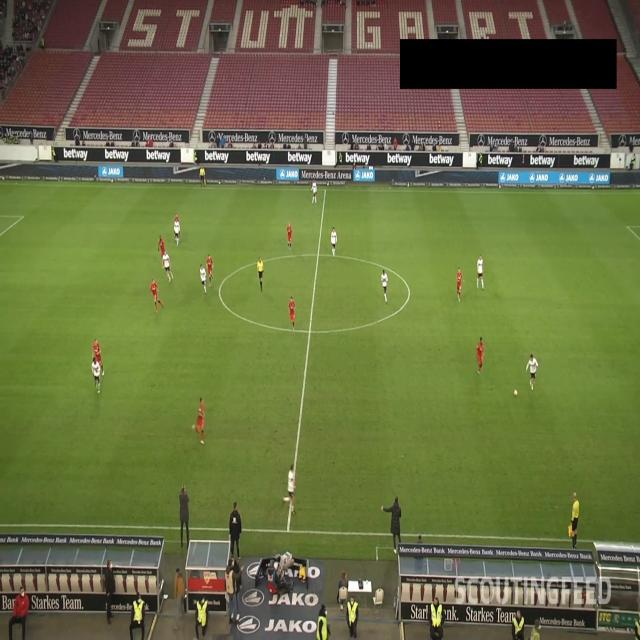ball: (513, 388, 518, 398)
